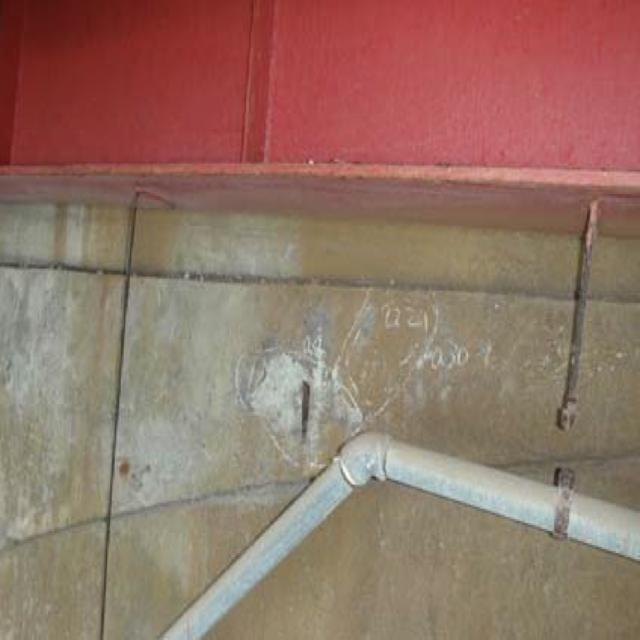spalling: (231, 339, 350, 470)
